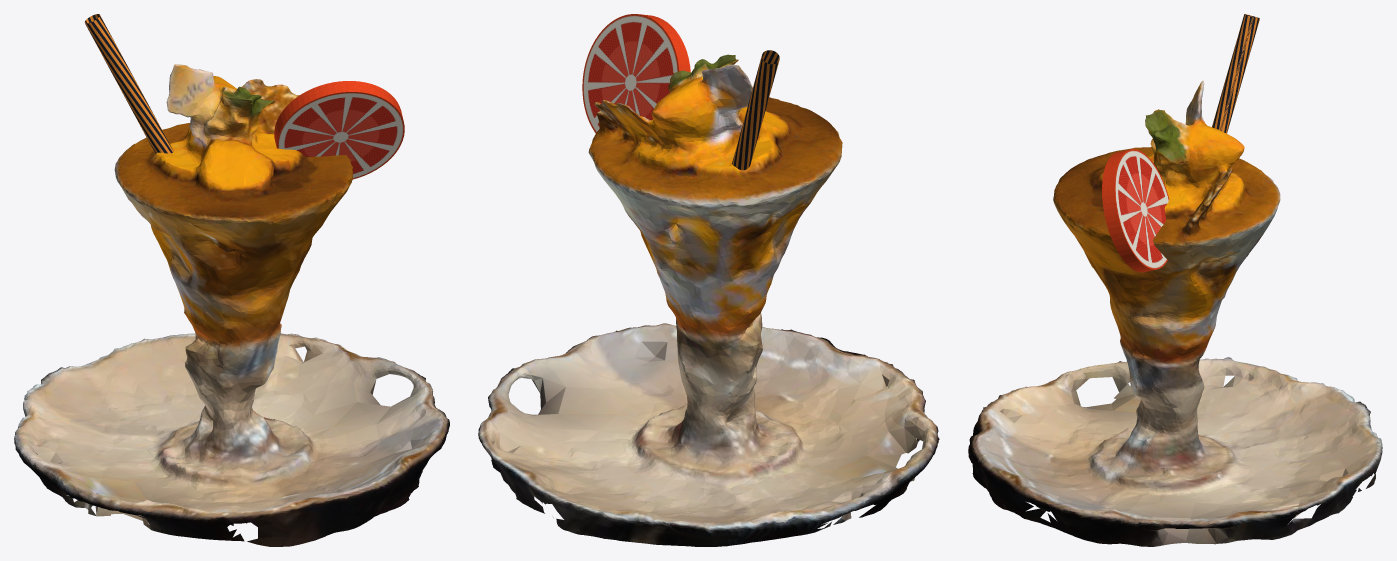
File: drink-sunset-spritz-mobile.glb
3 views of the same model, side by side, from view 1: azimuth 30°, elevation 25°; view 2: azimuth 150°, elevation 25°; view 3: azimuth 270°, elevation 25° (orthographic). The views are drawn at different scales.
Visible parts, largest first — view 1: glass, garnish; view 2: glass, garnish; view 3: glass, garnish.
Part boxes in pixels (box(x1,y1,x2,y2)): glass: box(14, 64, 449, 546); garnish: box(84, 14, 404, 179); glass: box(478, 54, 939, 546); garnish: box(582, 14, 779, 170); glass: box(968, 81, 1382, 546); garnish: box(1102, 14, 1259, 272).
Bounding box in the file's own units: 0.1754 × 0.1933 × 0.1768.
2 materials, 2 textured.
